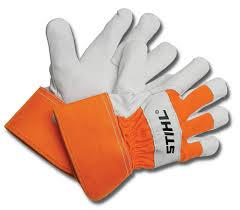gloves: (6, 9, 178, 176), (55, 42, 229, 203)
